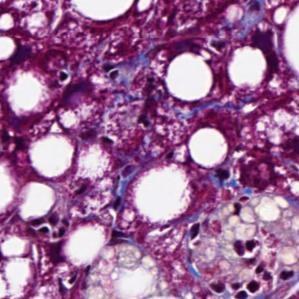inflammation: (30, 211, 71, 244), (208, 279, 265, 299), (232, 237, 263, 260)
